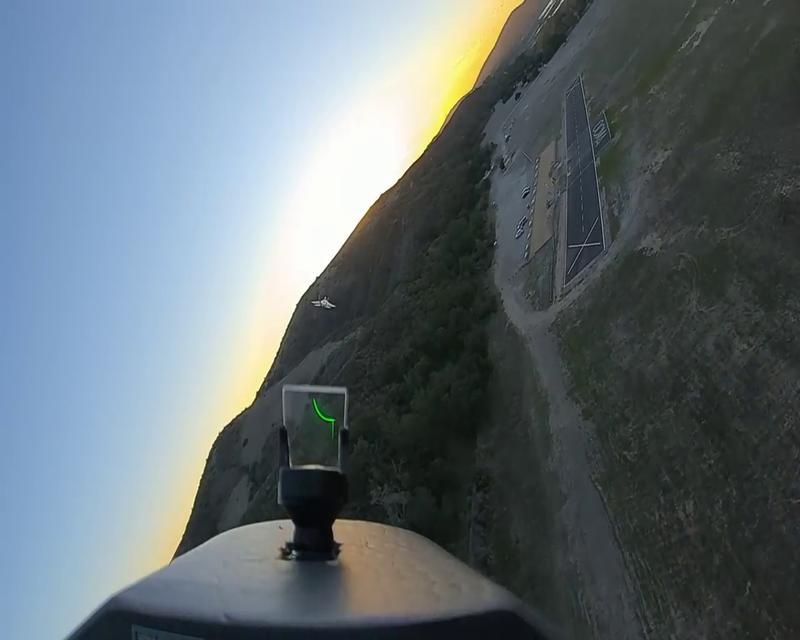UAV: (312, 294, 336, 310)
